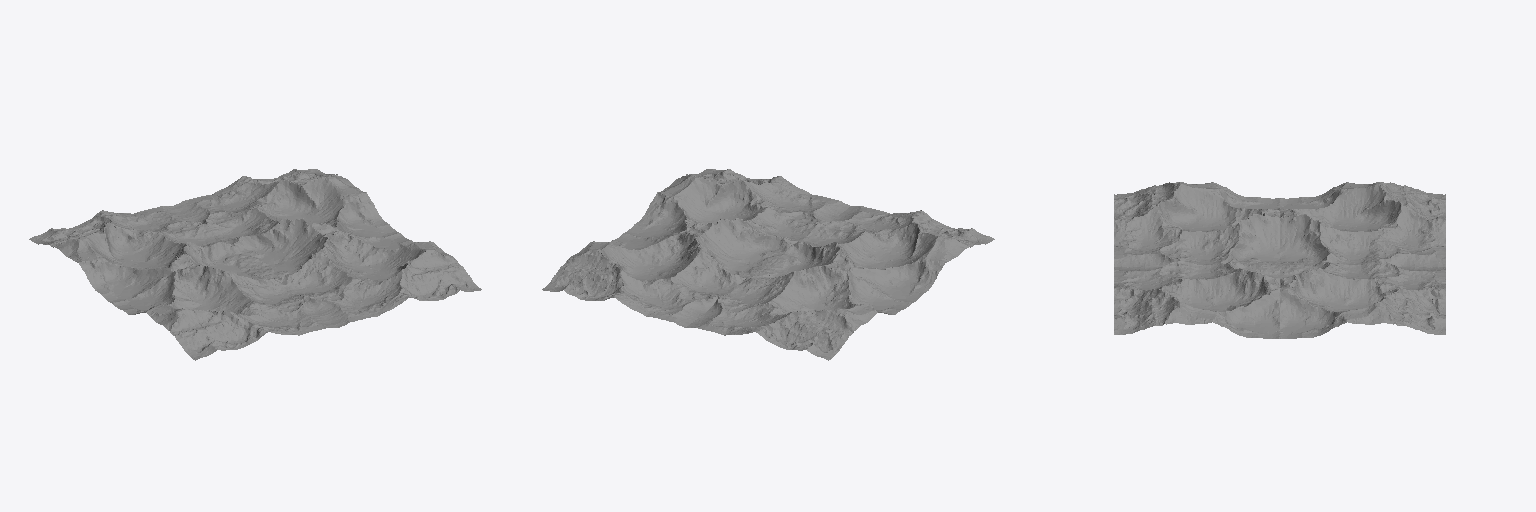
Rendered from mountain.obj.
3 renders of one model, left to right at view 1: azimuth 30°, elevation 25°; view 2: azimuth 150°, elevation 25°; view 3: azimuth 270°, elevation 25°, orthographic.
Parts seen in each view (by area): view 1: Mountains003, Mountains, Mountains002, Mountains001; view 2: Mountains, Mountains003, Mountains001, Mountains002; view 3: Mountains001, Mountains002, Mountains, Mountains003.
Part boxes in pixels (bbox=[...]): Mountains003: bbox=[257, 231, 481, 327]; Mountains: bbox=[174, 169, 398, 266]; Mountains002: bbox=[112, 264, 338, 360]; Mountains001: bbox=[29, 206, 255, 302]; Mountains: bbox=[542, 231, 766, 327]; Mountains003: bbox=[625, 169, 849, 266]; Mountains001: bbox=[685, 264, 911, 360]; Mountains002: bbox=[768, 206, 994, 302]; Mountains001: bbox=[1280, 182, 1445, 267]; Mountains002: bbox=[1114, 182, 1279, 267]; Mountains: bbox=[1280, 260, 1445, 338]; Mountains003: bbox=[1114, 260, 1279, 338].
Bounding box in the file's own units: 2000 × 177 × 2000.